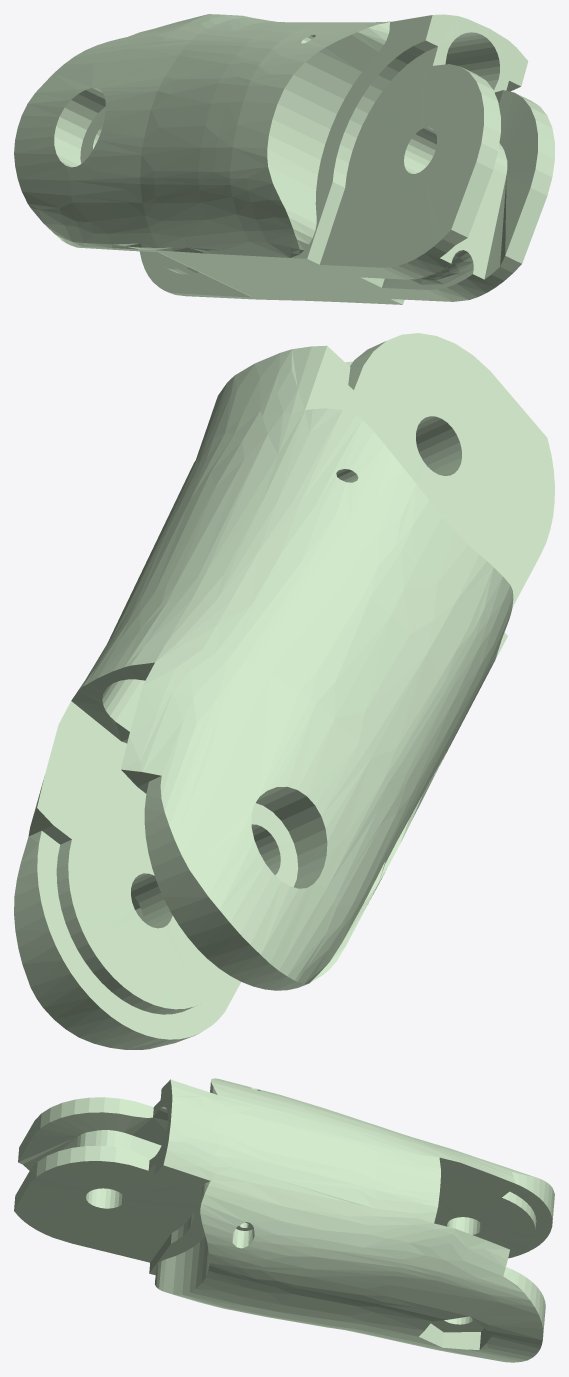
The model's file is i02_leftHand_pinkyPhal_visual.obj.balanced.glb.
3 views of the same model, one above another, from view 1: azimuth 30°, elevation 25°; view 2: azimuth 150°, elevation 25°; view 3: azimuth 270°, elevation 25° (orthographic). The views are drawn at different scales.
Size of the model in its own units: 0.2346 by 0.3094 by 0.4963.
